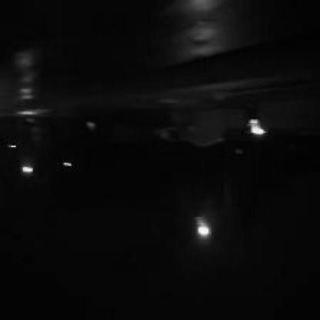other: (190, 209, 222, 243)
